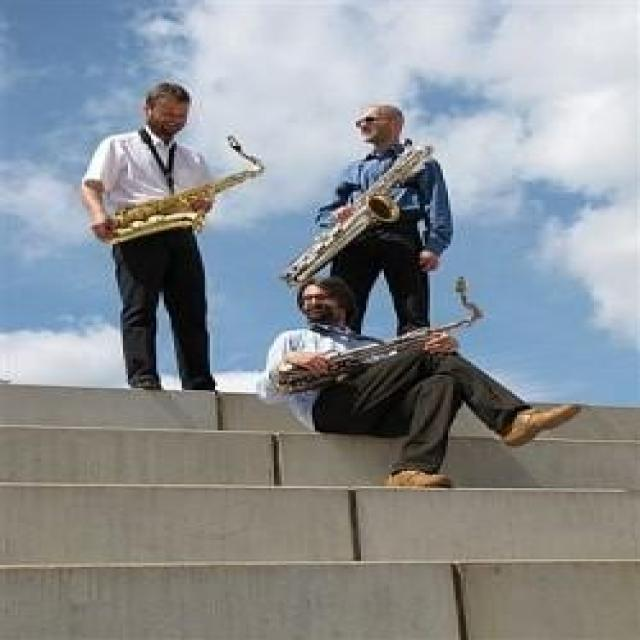saxophone: (273, 272, 504, 394), (281, 138, 436, 286), (87, 133, 274, 243)
